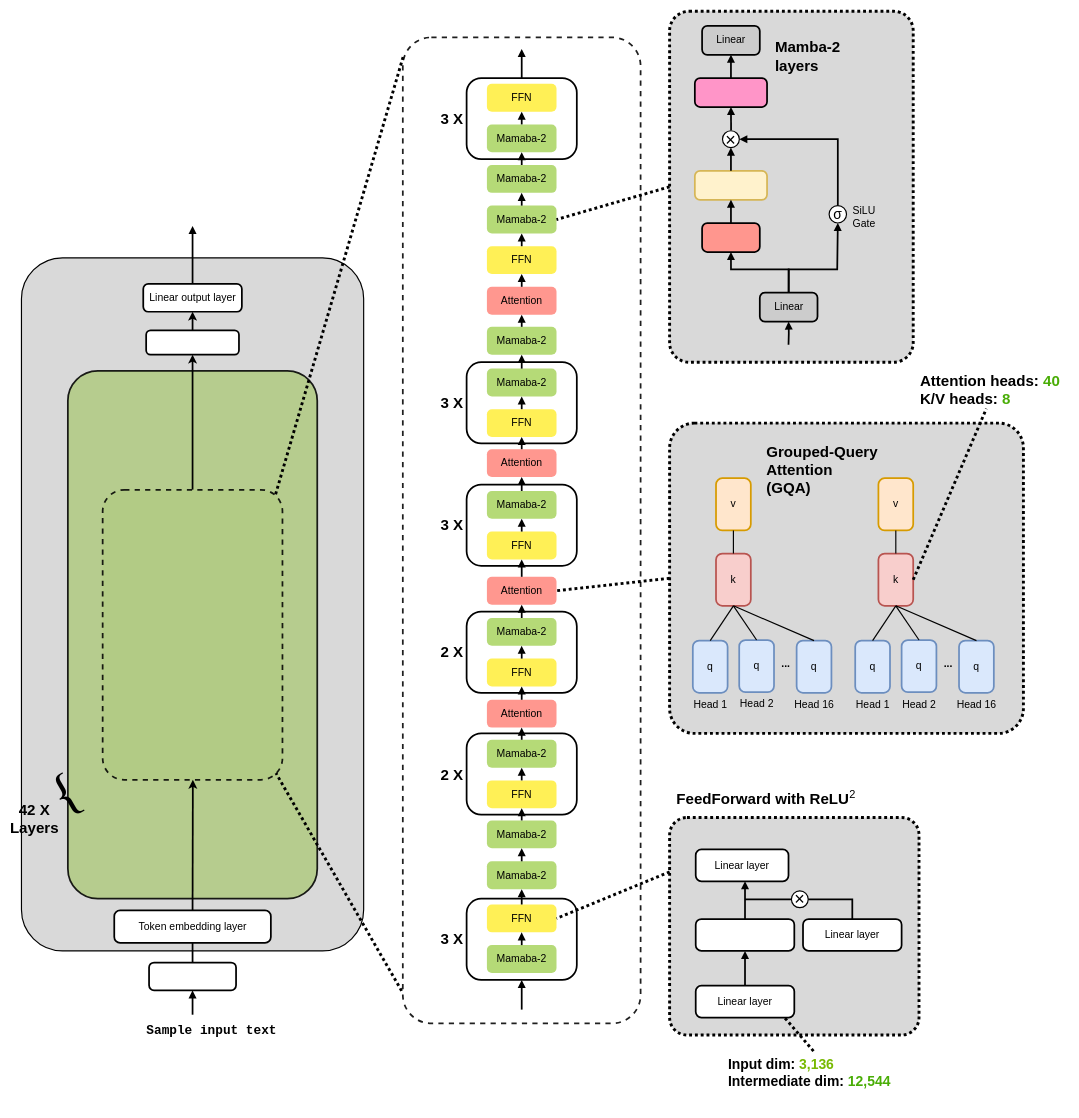
This 1079x1118 diagram has some shape labels left out. The shapes that lost their labels are listed below. From the top down, each one's centre as x and y in pixels, then its label:
the point at 731,92: RMSNorm
the point at 731,185: SSM state update
the point at 730,237: Conv1D
the point at 192,342: Final RMSNorm
the point at 745,934: SiLU activation
the point at 192,976: Tokenized text
